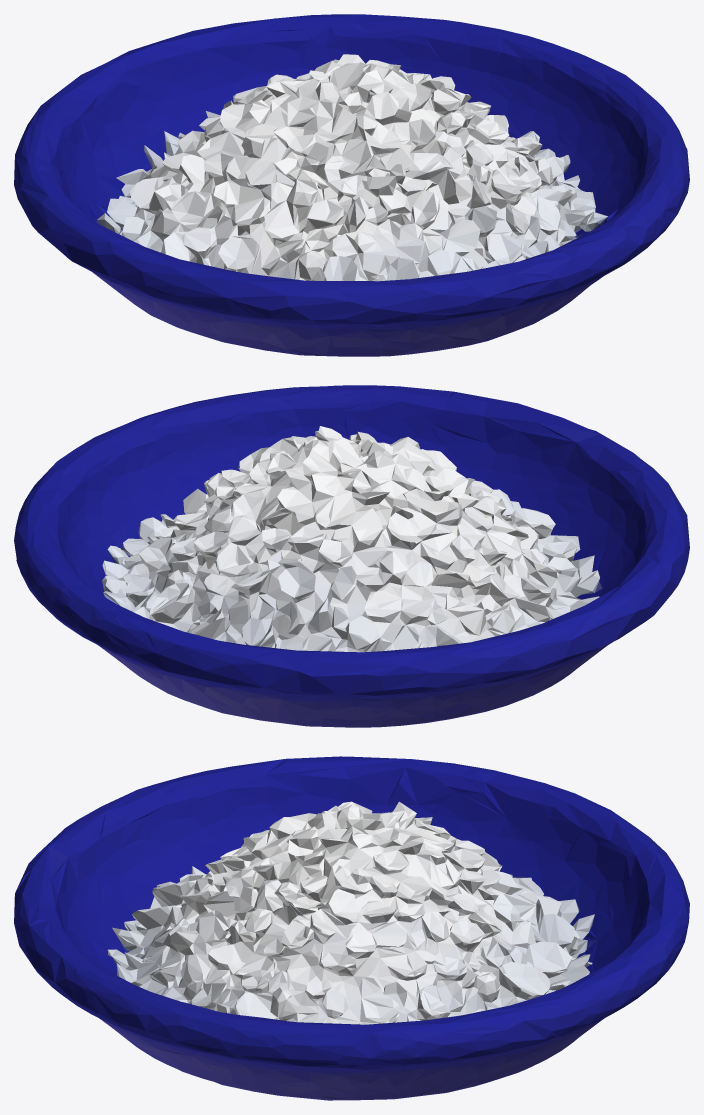
File: salt.glb
The picture shows the model from 3 angles, top to bottom: view 1: azimuth 30°, elevation 25°; view 2: azimuth 150°, elevation 25°; view 3: azimuth 270°, elevation 25°; orthographic projection.
Visible parts, largest first — view 1: geometry_0; view 2: geometry_0; view 3: geometry_0.
Part boxes in pixels (box(x1,y1,x2,y2)): geometry_0: box(14, 14, 689, 356); geometry_0: box(14, 385, 689, 727); geometry_0: box(14, 756, 689, 1100).
Size of the model in its own units: 0.085 by 0.0262 by 0.0849.
Materials: 1 (1 with a texture image).
